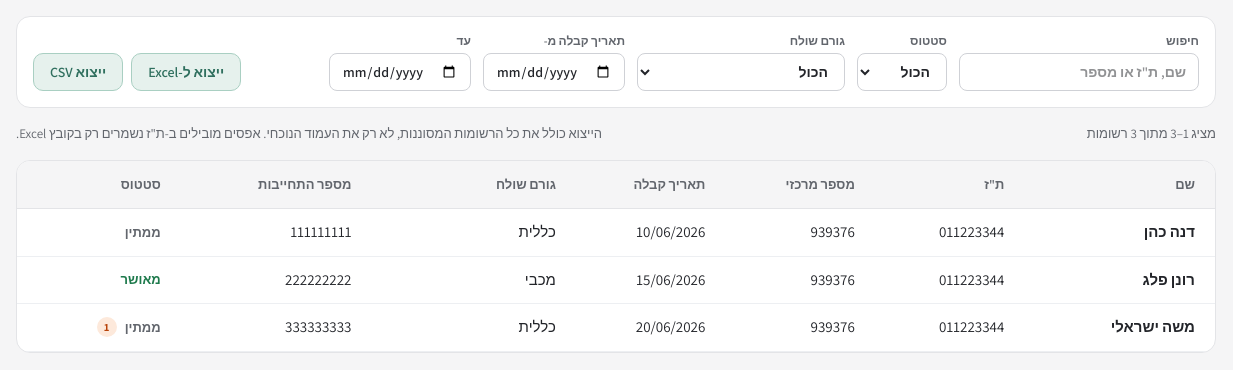
Test case: RecordsView: filters › searching waits for a pause in typing, then asks the server once
Check: the message does not show "טוען", box [1087,124,1216,144]
Type "פלג" into the search field named "חיפוש רשומות" at (1079, 72), box [959,53,1199,91]
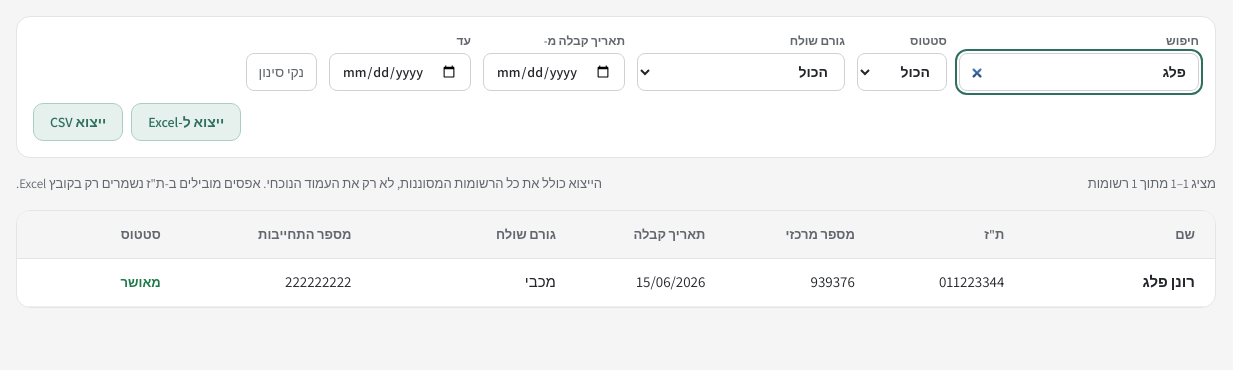
Check: the message shows "מתוך 1 רשומות", box [1088,175,1216,192]
Check: the message reads "מציג 1–1 מתוך 1 רשומות", box [1088,175,1216,192]
